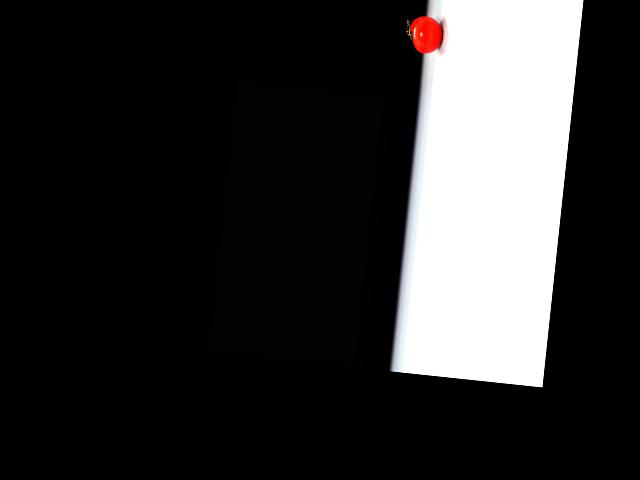tomato: (408, 14, 444, 55)
